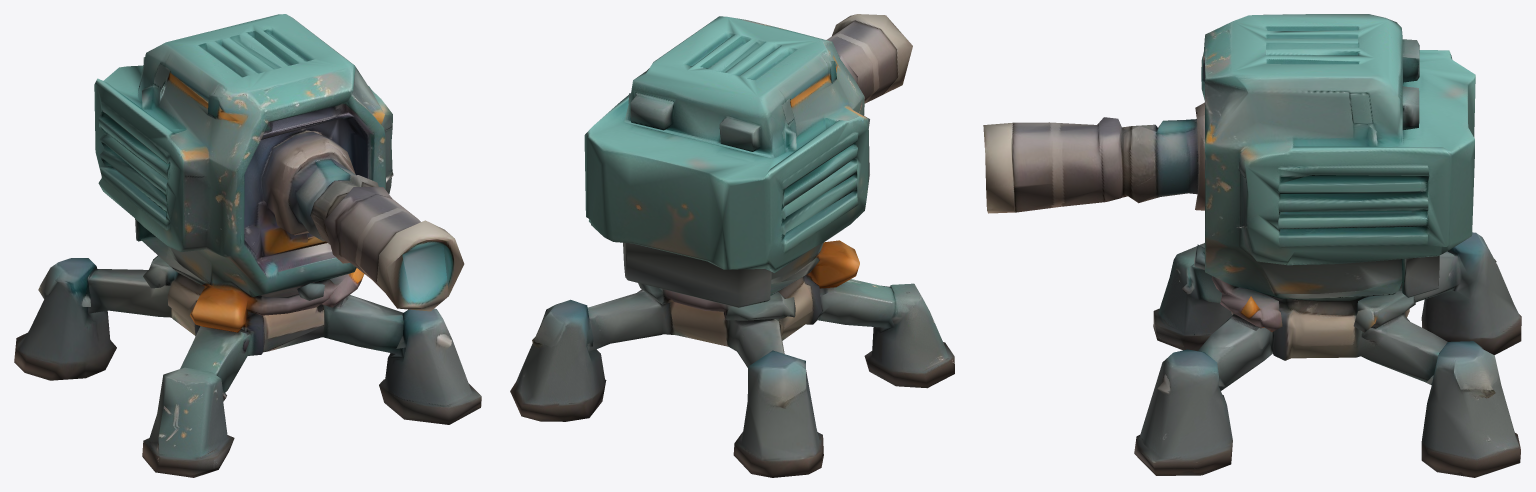
File: utility_laser_turret_3000.glb
3 views of the same model, side by side, from view 1: azimuth 30°, elevation 25°; view 2: azimuth 150°, elevation 25°; view 3: azimuth 270°, elevation 25° (orthographic). The views are drawn at different scales.
Parts seen in each view (by area): view 1: tripo_node_3f380bf4-5112-4686-a26e-c0efdbbd474a; view 2: tripo_node_3f380bf4-5112-4686-a26e-c0efdbbd474a; view 3: tripo_node_3f380bf4-5112-4686-a26e-c0efdbbd474a.
Boxes of the visible parts, bbox=[...] form: tripo_node_3f380bf4-5112-4686-a26e-c0efdbbd474a: bbox=[14, 14, 481, 477]; tripo_node_3f380bf4-5112-4686-a26e-c0efdbbd474a: bbox=[510, 14, 954, 477]; tripo_node_3f380bf4-5112-4686-a26e-c0efdbbd474a: bbox=[983, 14, 1521, 477].
Bounding box in the file's own units: 0.7028 × 0.7115 × 0.9782.
Materials: 1 (1 with a texture image).
